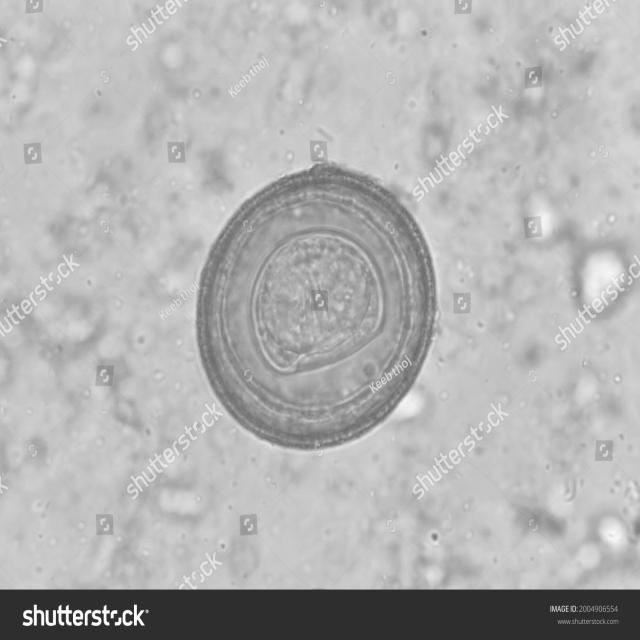Ascaris Lumbricoides: (191, 162, 445, 458)
